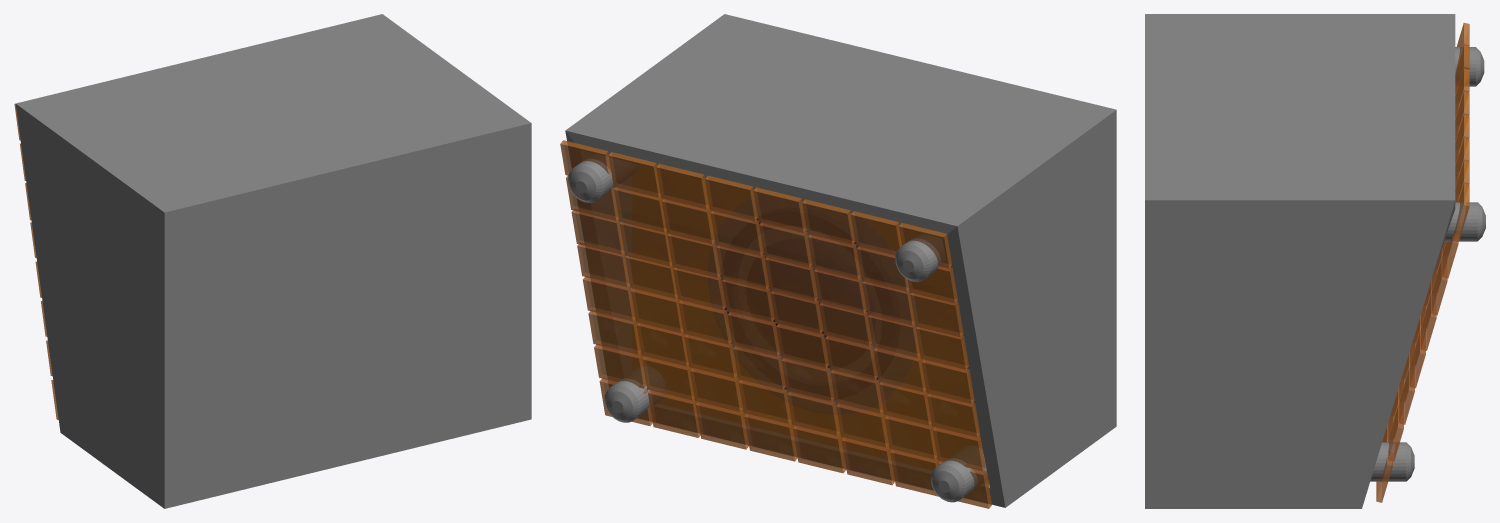
File: schoolSpeaker.fbx
3 views of the same model, side by side, from view 1: azimuth 30°, elevation 25°; view 2: azimuth 150°, elevation 25°; view 3: azimuth 270°, elevation 25° (orthographic). The views are drawn at different scales.
Parts seen in each view (by area): view 1: box, cover; view 2: box, cover, inner box, speaker, bolt.002, bolt, bolt.003, bolt.001; view 3: box, cover, bolt.002, bolt.003, bolt.001.
Part boxes in pixels (box(x1,y1,x2,y2)): box: box(15, 14, 531, 508); cover: box(14, 103, 58, 419); box: box(565, 14, 1116, 507); cover: box(560, 140, 991, 508); inner box: box(632, 165, 989, 483); speaker: box(708, 194, 918, 414); bolt.002: box(604, 366, 665, 422); bolt: box(931, 446, 988, 502); bolt.003: box(568, 154, 638, 202); bolt.001: box(895, 234, 945, 281); box: box(1145, 14, 1455, 508); cover: box(1376, 22, 1469, 502); bolt.002: box(1370, 442, 1414, 481); bolt.003: box(1444, 202, 1485, 241); bolt.001: box(1455, 47, 1484, 86).
Size of the model in its own units: 805 by 805 by 1042.
